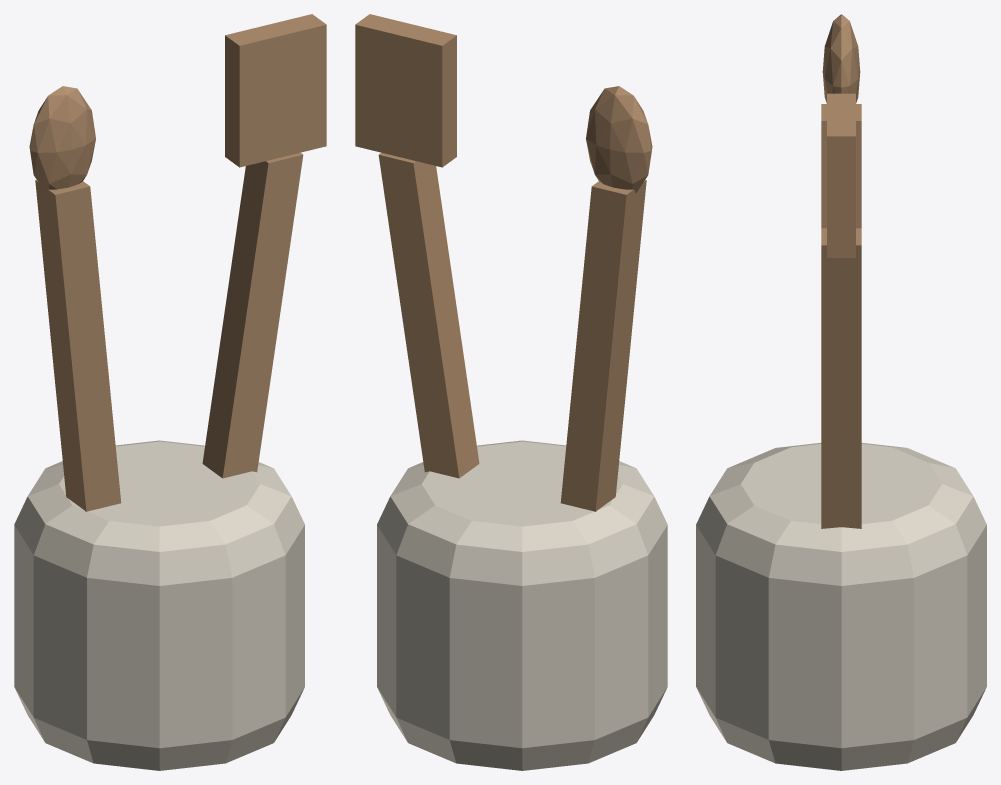
The model's file is cozy-home-interiors-utensil-pot-10b01b17.glb.
3 views of the same model, side by side, from view 1: azimuth 30°, elevation 25°; view 2: azimuth 150°, elevation 25°; view 3: azimuth 270°, elevation 25° (orthographic).
Visible parts, largest first — view 1: utensil-pot; view 2: utensil-pot; view 3: utensil-pot.
Boxes of the visible parts, box(x1,y1,x2,y2) form: utensil-pot: box(14, 14, 326, 770); utensil-pot: box(355, 14, 667, 770); utensil-pot: box(696, 14, 986, 770).
Bounding box in the file's own units: 0.1493 × 0.33 × 0.13.
